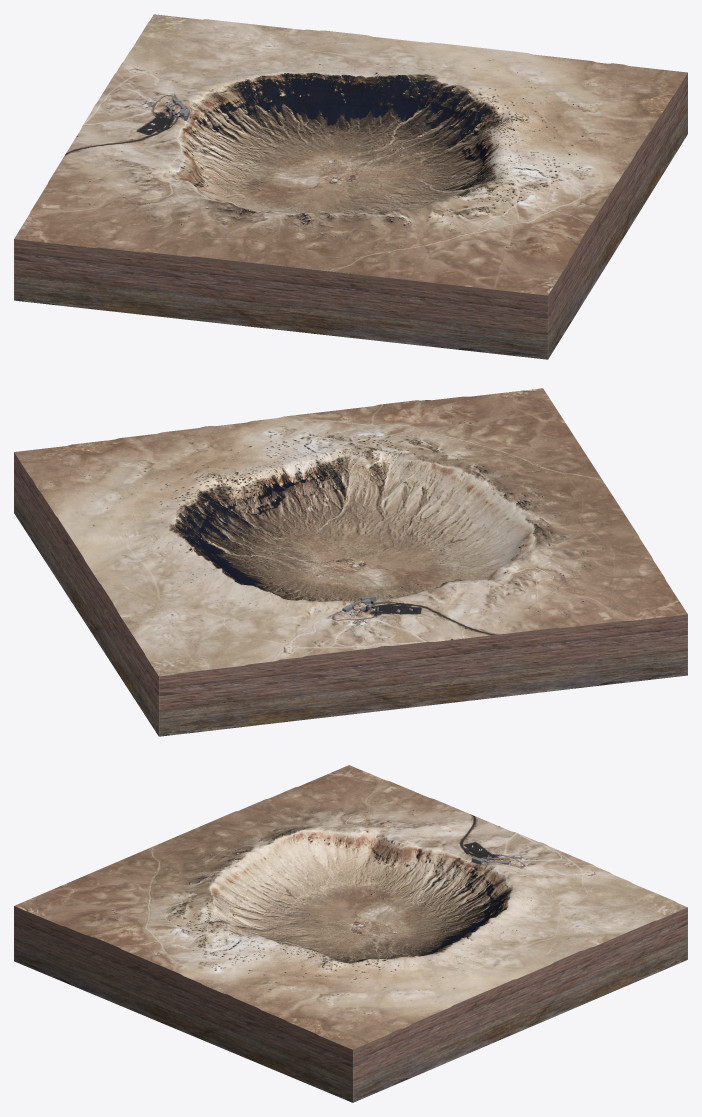
The model's file is barringer_meteorite_crater.obj.
3 renders of one model, top to bottom at view 1: azimuth 30°, elevation 25°; view 2: azimuth 150°, elevation 25°; view 3: azimuth 270°, elevation 25°, orthographic. The views are drawn at different scales.
Parts seen in each view (by area): view 1: object 1, object 4; view 2: object 1, object 4; view 3: object 1, object 4.
Boxes of the visible parts, x1=… form: object 1: x1=14, y1=14, x2=687, y2=295; object 4: x1=14, y1=73, x2=687, y2=359; object 1: x1=14, y1=388, x2=687, y2=676; object 4: x1=14, y1=452, x2=687, y2=736; object 1: x1=14, y1=765, x2=687, y2=1049; object 4: x1=14, y1=906, x2=687, y2=1102.
Bounding box in the file's own units: 22.4 × 2.41 × 22.4.
Materials: 5 (4 with a texture image).
